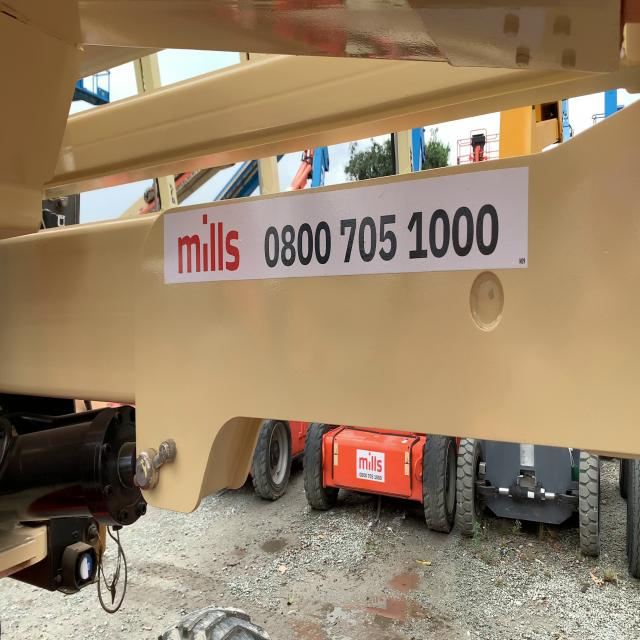Adesivo Longo: (161, 162, 530, 289), (356, 448, 385, 483)
